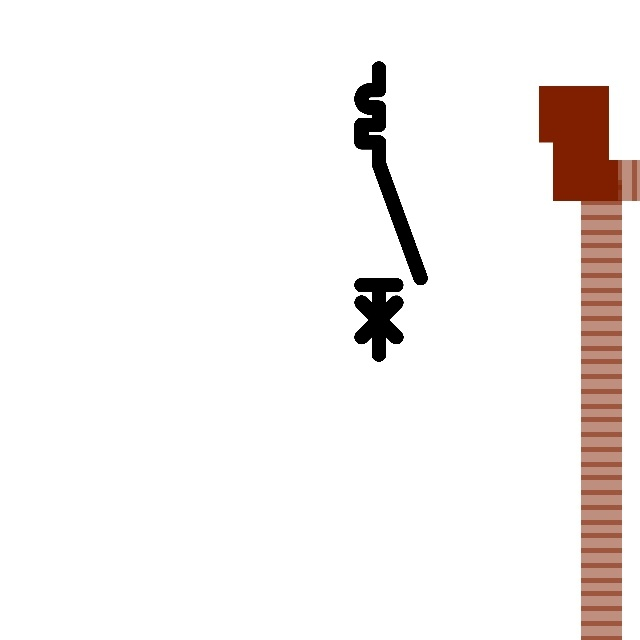interruptor_termomagnetico: (354, 61, 427, 362)
